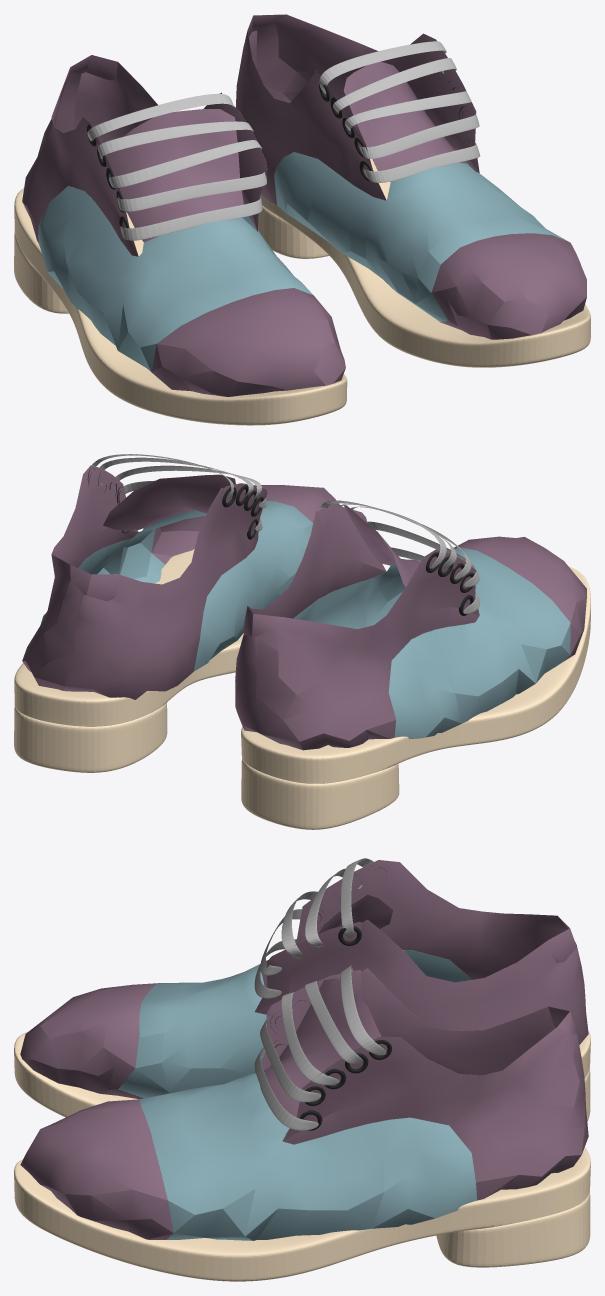
3 renders of one model, top to bottom at view 1: azimuth 30°, elevation 25°; view 2: azimuth 150°, elevation 25°; view 3: azimuth 270°, elevation 25°, orthographic. The views are drawn at different scales.
Visible parts, largest first — view 1: ZAPATO1_3.001, ZAPATO1_3, Plane.011, Plane, Plane.009, Plane.006, Plane.010, Plane.008, Plane.007, Plane.002, Plane.003, Plane.004 (+2 smaller); view 2: ZAPATO1_3.001, ZAPATO1_3, Plane.011, Plane, Plane.009, Plane.001, Plane.003, Plane.007; view 3: ZAPATO1_3, ZAPATO1_3.001, Plane, Plane.011, Plane.001, Plane.004, Plane.003, Plane.005, Plane.002, Plane.007, Plane.008, Plane.010.
Part boxes in pixels (left/top/right/bottom): ZAPATO1_3.001: left=22, top=55, right=345, bottom=396; ZAPATO1_3: left=236, top=14, right=586, bottom=339; Plane.011: left=14, top=188, right=347, bottom=425; Plane: left=258, top=159, right=590, bottom=367; Plane.009: left=117, top=172, right=266, bottom=211; Plane.006: left=120, top=196, right=262, bottom=240; Plane.010: left=109, top=140, right=262, bottom=187; Plane.008: left=97, top=121, right=253, bottom=158; Plane.007: left=87, top=93, right=234, bottom=140; Plane.002: left=359, top=114, right=479, bottom=158; Plane.003: left=333, top=58, right=456, bottom=112; Plane.004: left=319, top=41, right=446, bottom=93; ZAPATO1_3.001: left=235, top=505, right=586, bottom=750; ZAPATO1_3: left=22, top=465, right=339, bottom=699; Plane.011: left=241, top=566, right=590, bottom=829; Plane: left=14, top=549, right=243, bottom=772; Plane.009: left=366, top=521, right=479, bottom=587; Plane.001: left=115, top=465, right=262, bottom=501; Plane.003: left=99, top=457, right=253, bottom=497; Plane.007: left=320, top=500, right=446, bottom=568; ZAPATO1_3: left=20, top=968, right=588, bottom=1240; ZAPATO1_3.001: left=20, top=860, right=588, bottom=1099; Plane: left=14, top=1147, right=590, bottom=1281; Plane.011: left=14, top=1031, right=590, bottom=1121; Plane.001: left=281, top=992, right=339, bottom=1085; Plane.004: left=340, top=965, right=386, bottom=1055; Plane.003: left=305, top=981, right=361, bottom=1064; Plane.005: left=254, top=1047, right=318, bottom=1130; Plane.002: left=260, top=1016, right=321, bottom=1102; Plane.007: left=340, top=858, right=373, bottom=938; Plane.008: left=305, top=868, right=361, bottom=947; Plane.010: left=281, top=891, right=317, bottom=958.
Bounding box in the file's own units: 412 × 209 × 447.
